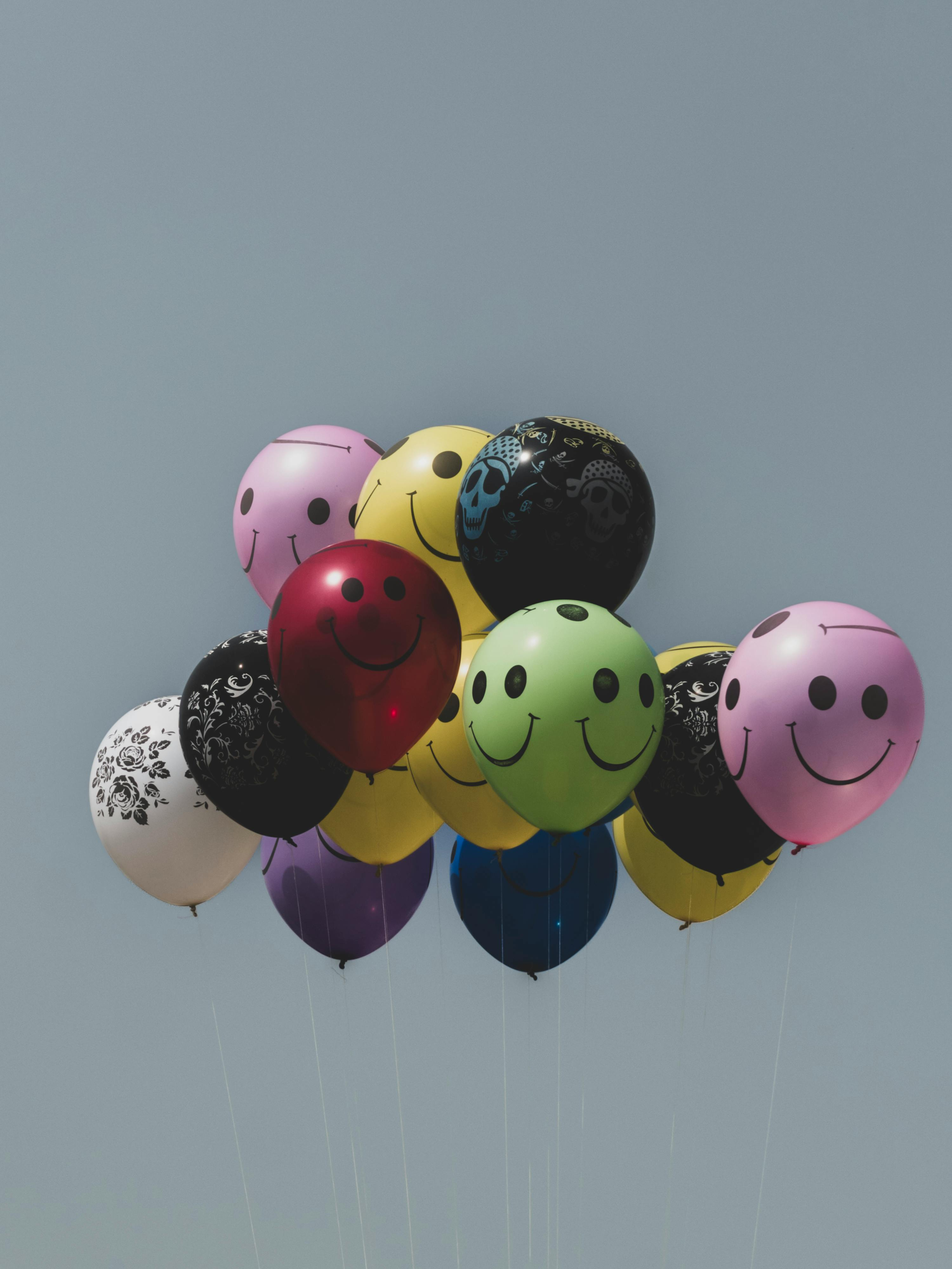balloon: (718, 602, 924, 845), (461, 598, 664, 833), (267, 539, 461, 773), (455, 417, 655, 620), (635, 650, 784, 915), (90, 696, 260, 906), (178, 631, 350, 837), (354, 426, 493, 636), (408, 636, 536, 849), (234, 426, 381, 606), (450, 824, 617, 979), (262, 825, 433, 965), (613, 808, 779, 923), (319, 760, 442, 864), (655, 642, 735, 674)
